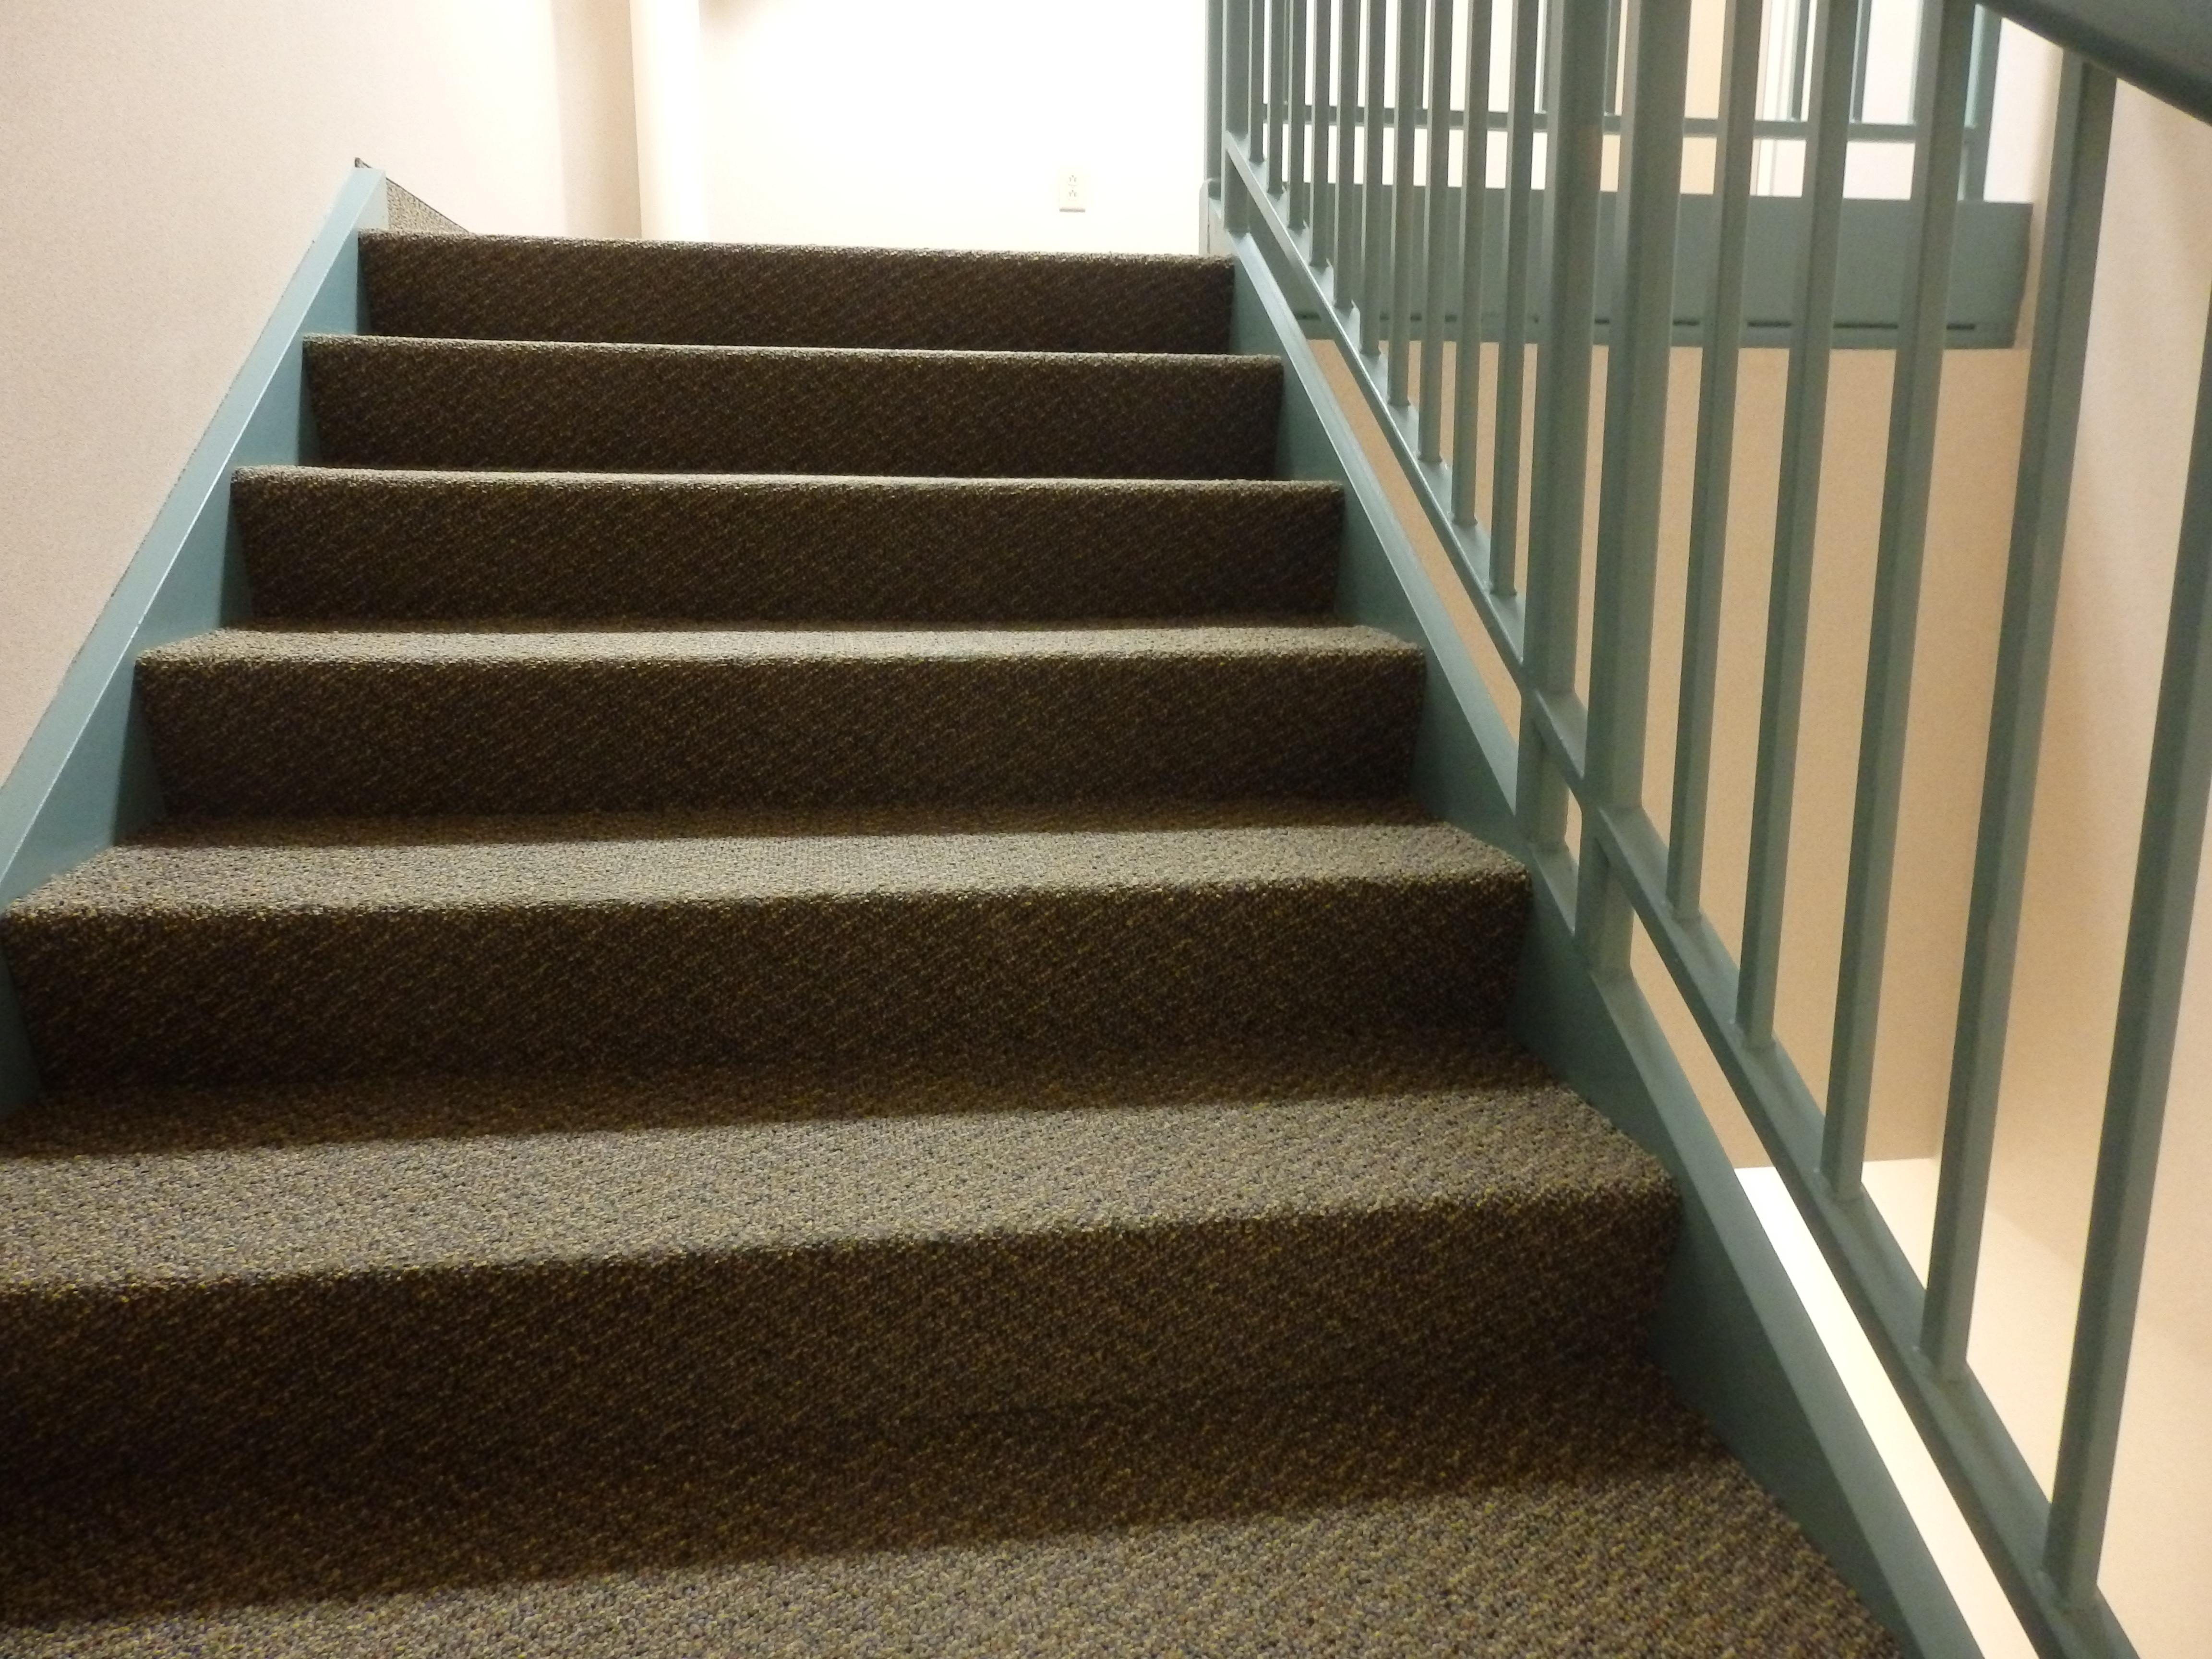stairs_up: (106, 155, 1508, 1549)
